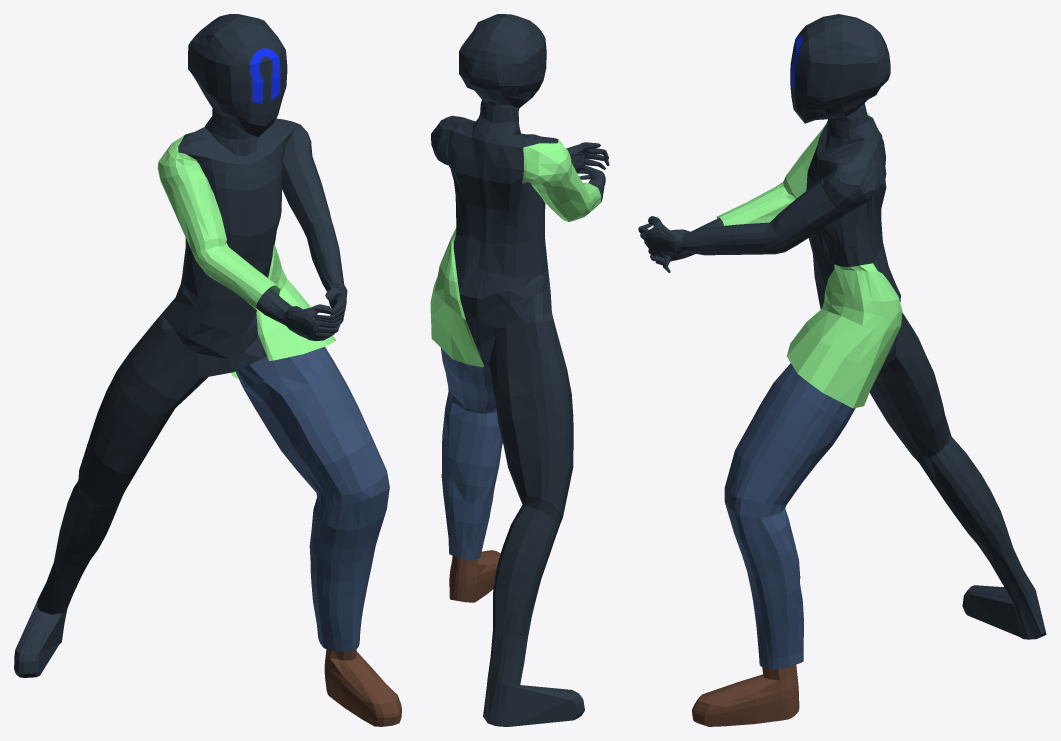
The model's file is Mar_WR_000016.obj.
3 renders of one model, left to right at view 1: azimuth 30°, elevation 25°; view 2: azimuth 150°, elevation 25°; view 3: azimuth 270°, elevation 25°, orthographic. The views are drawn at different scales.
Visible parts, largest first — view 1: Cube.000_Cube.001; view 2: Cube.000_Cube.001; view 3: Cube.000_Cube.001.
Part boxes in pixels (box(x1,y1,x2,y2)): Cube.000_Cube.001: box(14, 14, 401, 726); Cube.000_Cube.001: box(430, 14, 609, 726); Cube.000_Cube.001: box(638, 14, 1046, 726).
Size of the model in its own units: 1.47 by 3.72 by 2.07.
